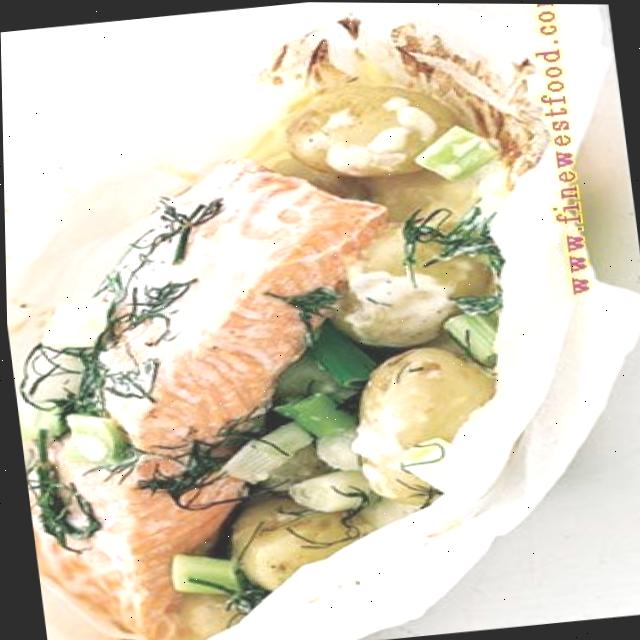熟制海鲜: (0, 23, 640, 640)
